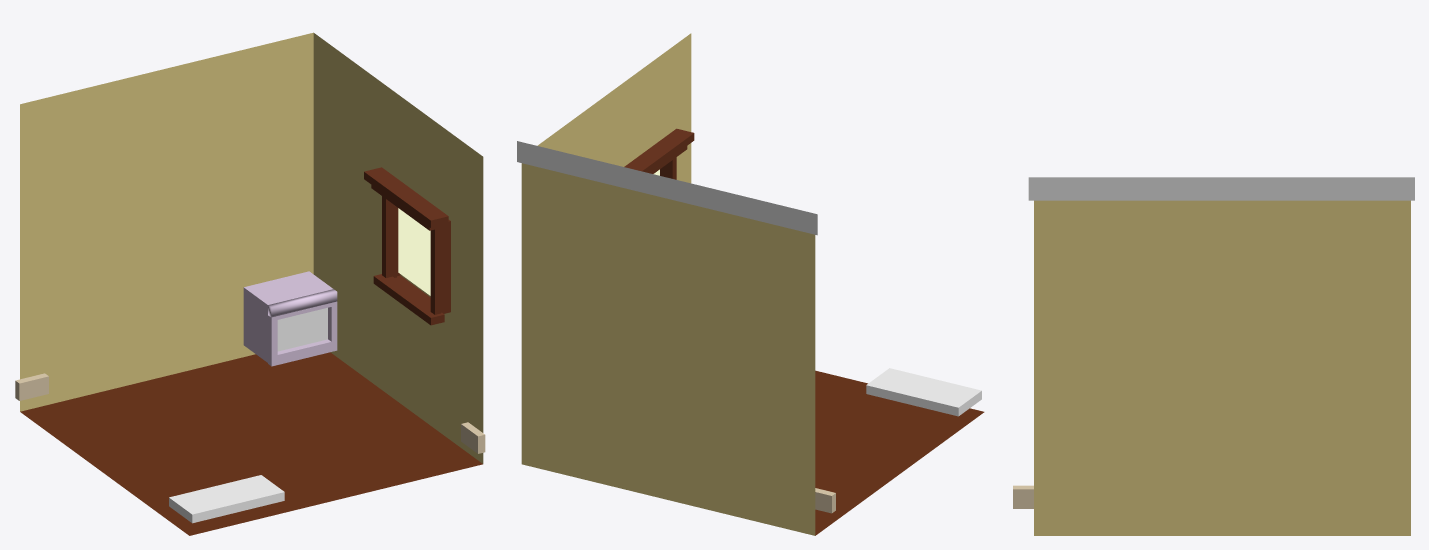
The model's file is project2.glb.
3 renders of one model, left to right at view 1: azimuth 30°, elevation 25°; view 2: azimuth 150°, elevation 25°; view 3: azimuth 270°, elevation 25°, orthographic. The views are drawn at different scales.
Visible parts, largest first — view 1: Cube, Cube.009, Cube.013, Cube.016, Plane, Cube.005, Cube.006, Cube.003, Cube.007, Cube.008, Cube.015, Cube.010 (+1 smaller); view 2: Cube, Cube.002, Cube.009, Cube.005; view 3: Cube, Cube.002, Cube.011.
Boxes of the visible parts, x1,y1,x2,y2 form: Cube: (20, 32, 483, 535); Cube.009: (169, 475, 284, 523); Cube.013: (243, 271, 332, 362); Cube.016: (268, 301, 337, 359); Plane: (398, 208, 430, 295); Cube.005: (364, 167, 448, 227); Cube.006: (395, 207, 450, 313); Cube.003: (373, 274, 444, 325); Cube.007: (382, 196, 396, 277); Cube.008: (430, 228, 441, 314); Cube.015: (268, 289, 337, 317); Cube.010: (15, 373, 48, 400); Cube: (521, 33, 984, 535); Cube.002: (517, 141, 817, 235); Cube.009: (866, 368, 981, 416); Cube.005: (624, 128, 694, 173); Cube: (1034, 200, 1410, 535); Cube.002: (1028, 177, 1414, 200); Cube.011: (1013, 485, 1033, 508).
Size of the model in its own units: 7.32 by 7.38 by 7.45.
